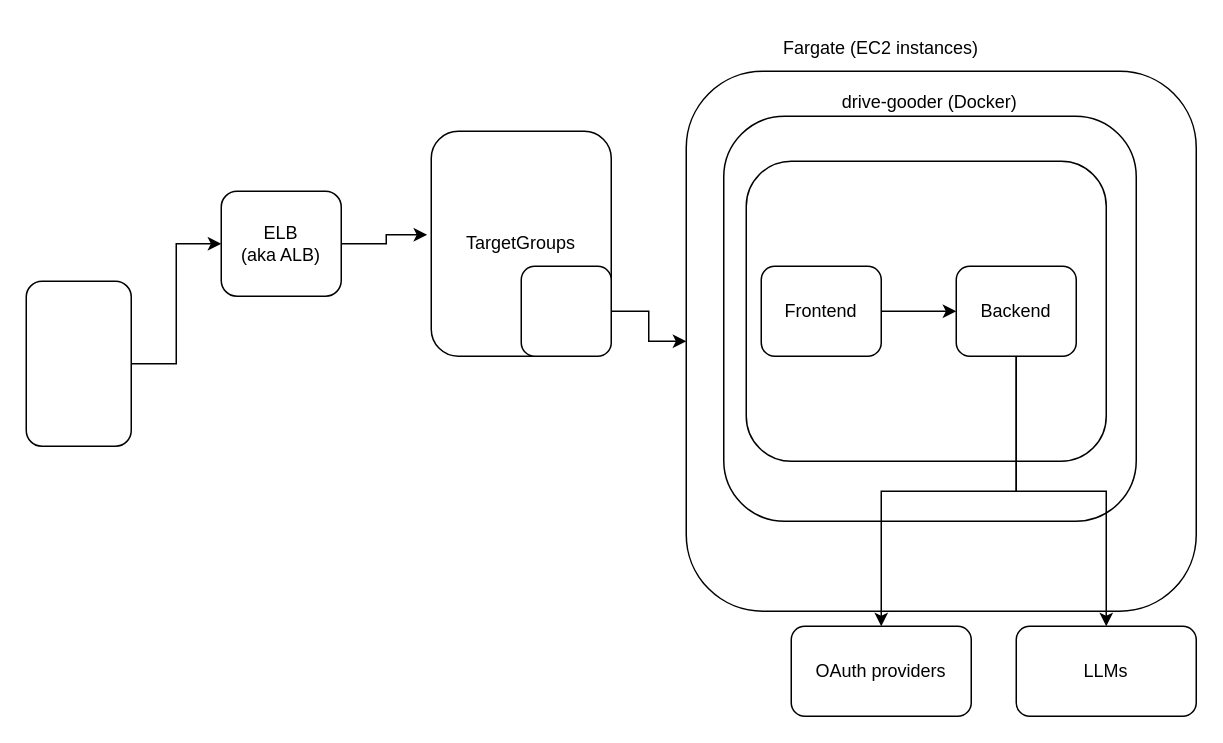
The diagram is 1223 pixels wide and 743 high, and some of its shapes have lost their labels. The box of each missing label's shape, as (x1, y1, x2, y2) in pixels:
ECS: (520, 265, 611, 356)
NGinX: (745, 160, 1106, 461)
User's Phone: (25, 280, 131, 446)
